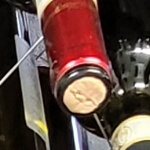bottle: (36, 46, 138, 131)
